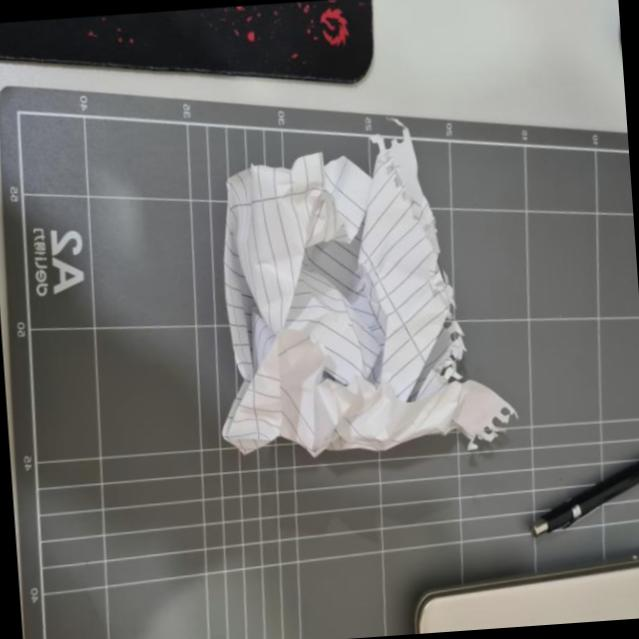cardboard paper: (222, 130, 514, 455)
